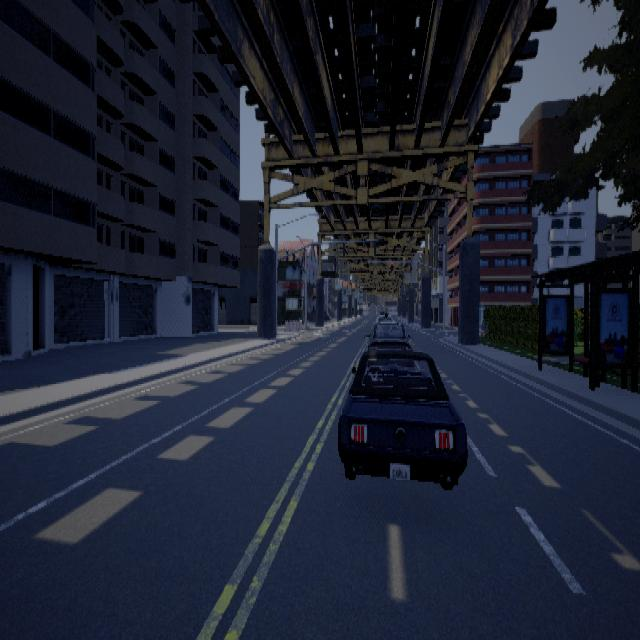red_light: (390, 262, 392, 270)
traffic_light: (409, 260, 411, 270)
vehicle: (337, 341, 467, 488), (368, 317, 411, 374)
